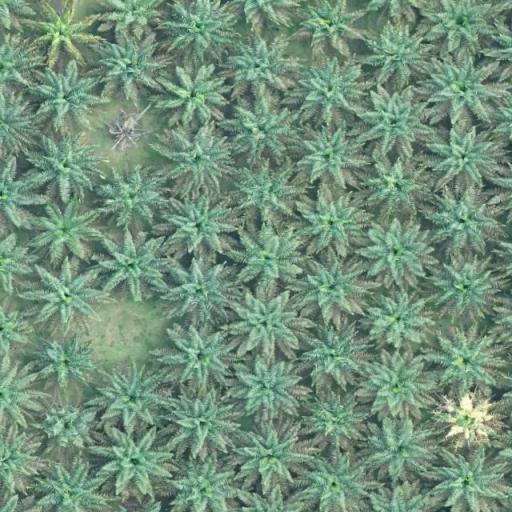Ganoderma: (40, 13, 85, 55), (444, 401, 490, 437)
